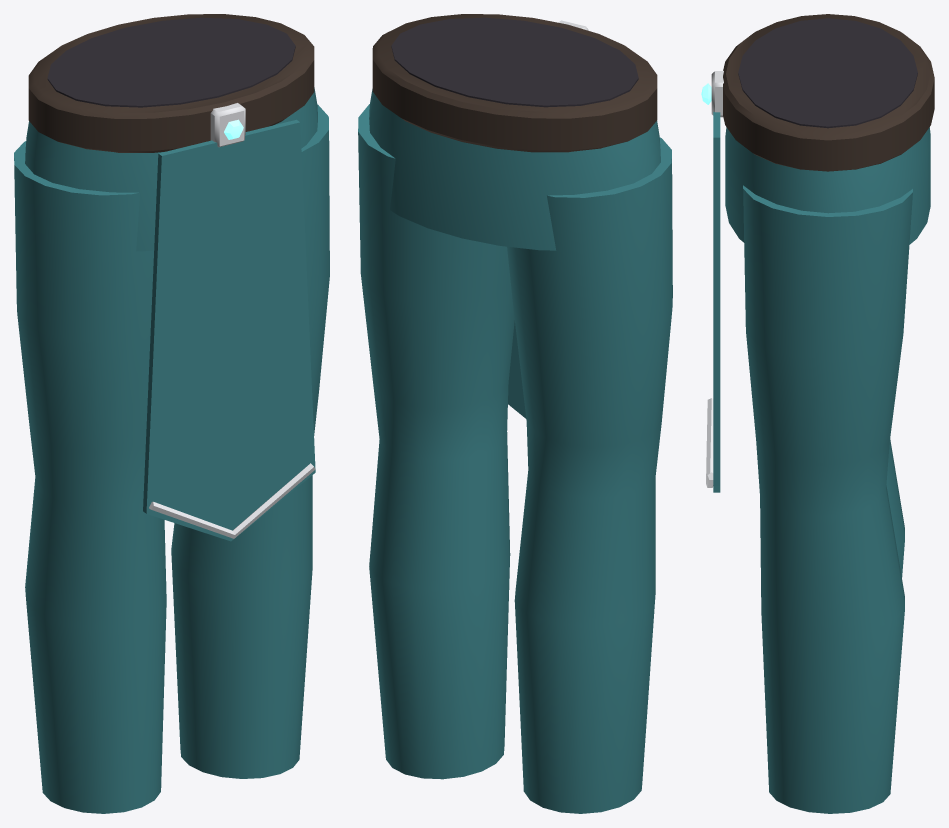
The model's file is u_stillwater_silks.glb.
3 views of the same model, side by side, from view 1: azimuth 30°, elevation 25°; view 2: azimuth 150°, elevation 25°; view 3: azimuth 270°, elevation 25° (orthographic). The views are drawn at different scales.
Visible parts, largest first — view 1: u_stillwater_silks; view 2: u_stillwater_silks; view 3: u_stillwater_silks.
Boxes of the visible parts, x1,y1,x2,y2 form: u_stillwater_silks: (14,14,329,813); u_stillwater_silks: (358,14,672,813); u_stillwater_silks: (701,14,934,813).
Bounding box in the file's own units: 0.3049 × 0.7071 × 0.2182.
